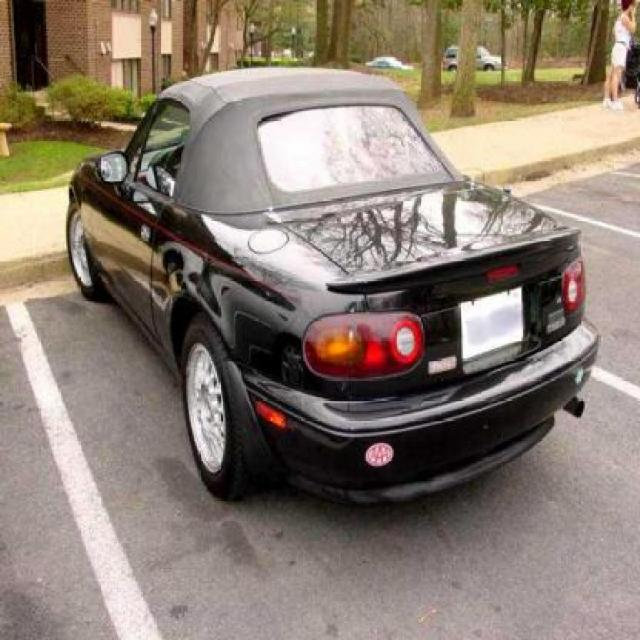License-Plates: (460, 284, 527, 364)
